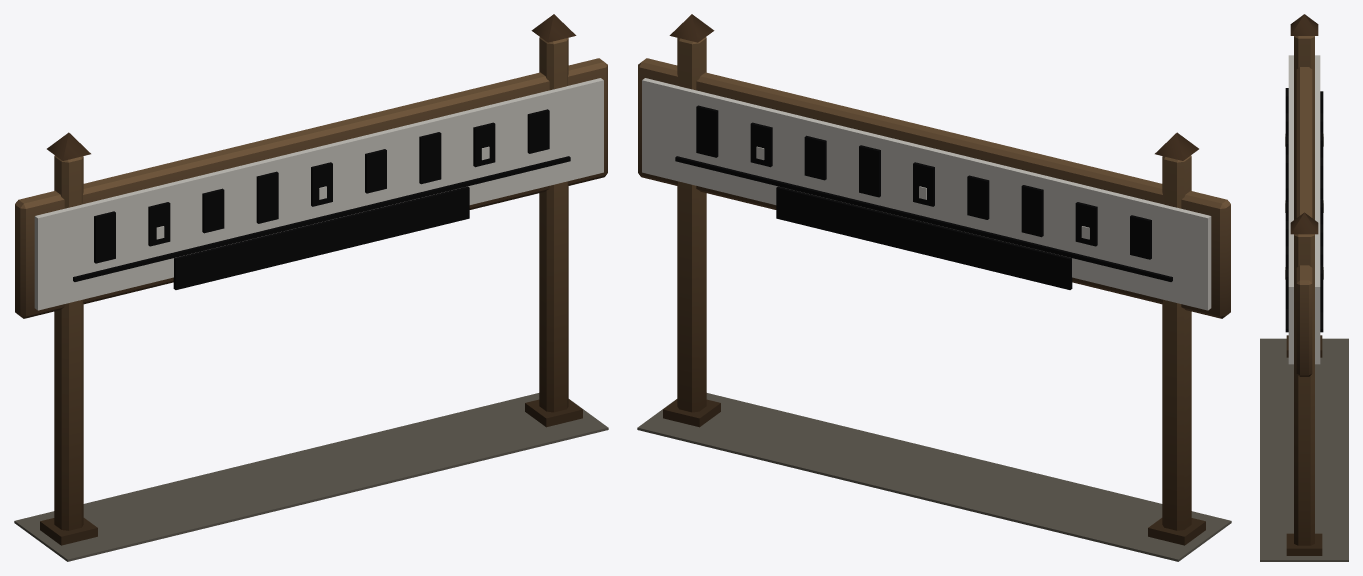
The model's file is station-nameboard.glb.
3 renders of one model, left to right at view 1: azimuth 30°, elevation 25°; view 2: azimuth 150°, elevation 25°; view 3: azimuth 270°, elevation 25°, orthographic. The views are drawn at different scales.
Parts seen in each view (by area): view 1: station_nameboard; view 2: station_nameboard; view 3: station_nameboard.
Part boxes in pixels (left/top/right/bottom): station_nameboard: left=14, top=14, right=608, bottom=561; station_nameboard: left=637, top=14, right=1231, bottom=561; station_nameboard: left=1260, top=14, right=1348, bottom=561.
Bounding box in the file's own units: 3.2 × 2.1 × 0.5.
